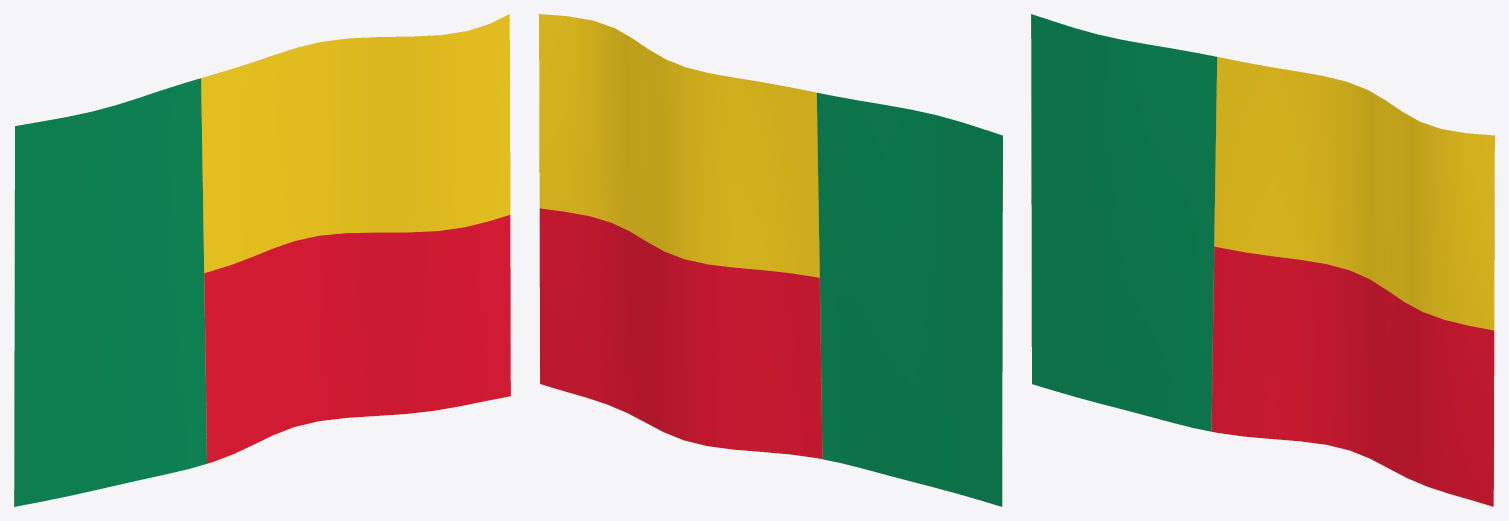
The model's file is BJ_Benin.glb.
3 renders of one model, left to right at view 1: azimuth 30°, elevation 25°; view 2: azimuth 150°, elevation 25°; view 3: azimuth 330°, elevation 25°, orthographic. The views are drawn at different scales.
Visible parts, largest first — view 1: BJ_flag; view 2: BJ_flag; view 3: BJ_flag.
Boxes of the visible parts, <box> form: BJ_flag: <box>14,14,510,506</box>; BJ_flag: <box>539,14,1002,506</box>; BJ_flag: <box>1031,14,1494,506</box>.
Size of the model in its own units: 1.33 by 1 by 0.1347.
Materials: 1 (1 with a texture image).
